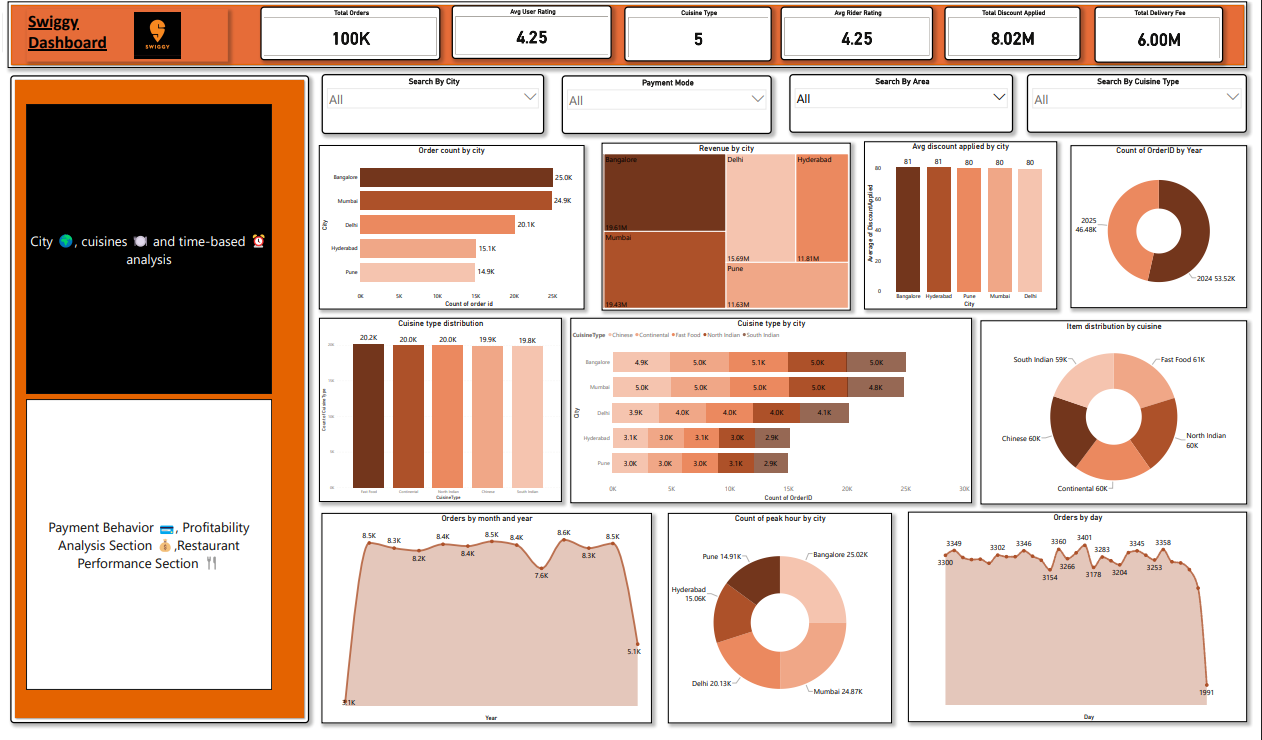

What the dashboard file says about the page in this screenshot:
{"tool":"tableau","page":{"name":"Dashboard 1","canvas":[1720,1160],"ordinal":0},"visuals":[{"type":"text","box":[5,4,1715,126]},{"type":"worksheet","title":"Sheet 2","mark":"Automatic","rows":["OrderID"],"cols":["OrderDatetime"],"box":[554,133,561,330]},{"type":"worksheet","title":"Sheet 3","mark":"Automatic","rows":["DeliveryFee"],"cols":["City"],"box":[1121,134,596,327]},{"type":"worksheet","title":"Sheet 1","mark":"Automatic","rows":["City"],"cols":["OrderValue"],"box":[7,135,542,324]},{"type":"worksheet","title":"Sheet 10","mark":"Circle","box":[4,461,510,350]},{"type":"worksheet","title":"Sheet 6","mark":"Automatic","rows":["UserID"],"cols":["TotalAmount"],"box":[516,464,593,344]},{"type":"worksheet","title":"Sheet 5","mark":"Automatic","box":[1112,464,607,347]},{"type":"legend","title":"Sheet 5","param":"[federated.0jja2vn1pwjt8g0zpawjo116l75y].[sum:TotalAmount:qk]","box":[1546,472,166,43]},{"type":"worksheet","title":"Sheet 9","mark":"Automatic","rows":["RestaurantID"],"cols":["OrderValue"],"box":[501,815,552,338]},{"type":"worksheet","title":"Sheet 7","mark":"Pie","box":[1057,815,334,337]},{"type":"worksheet","title":"Sheet 4","mark":"Circle","box":[1396,815,323,337]},{"type":"worksheet","title":"Sheet 8","mark":"Pie","box":[4,816,490,335]},{"type":"legend","title":"Sheet 7","param":"[federated.0jja2vn1pwjt8g0zpawjo116l75y].[cnt:OrderValue:qk]","box":[1079,1099,230,44]}]}

Visuals, with their boxes on the page's 1720x1160 design canvas (x1, y1, x2, y2). These are canvas units, not pixel positions in the 1262x740 screenshot, which may show the page scaled, cropped or inside an application window:
text: [x1=5, y1=4, x2=1720, y2=130]
"Sheet 2" worksheet: [x1=554, y1=133, x2=1115, y2=463]
"Sheet 3" worksheet: [x1=1121, y1=134, x2=1717, y2=461]
"Sheet 1" worksheet: [x1=7, y1=135, x2=549, y2=459]
"Sheet 10" worksheet (Circle marks): [x1=4, y1=461, x2=514, y2=811]
"Sheet 6" worksheet: [x1=516, y1=464, x2=1109, y2=808]
"Sheet 5" worksheet: [x1=1112, y1=464, x2=1719, y2=811]
"Sheet 5" legend: [x1=1546, y1=472, x2=1712, y2=515]
"Sheet 9" worksheet: [x1=501, y1=815, x2=1053, y2=1153]
"Sheet 7" worksheet (Pie marks): [x1=1057, y1=815, x2=1391, y2=1152]
"Sheet 4" worksheet (Circle marks): [x1=1396, y1=815, x2=1719, y2=1152]
"Sheet 8" worksheet (Pie marks): [x1=4, y1=816, x2=494, y2=1151]
"Sheet 7" legend: [x1=1079, y1=1099, x2=1309, y2=1143]
